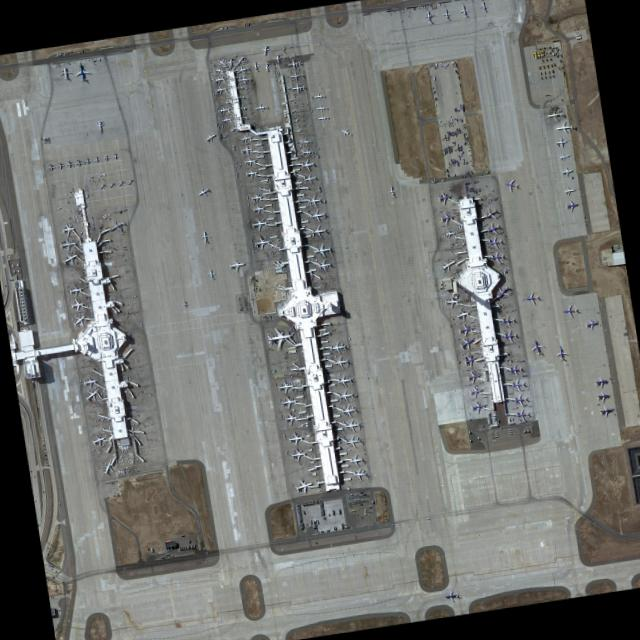large-vehicle: (103, 212, 107, 216), (48, 563, 53, 566), (430, 179, 435, 182), (433, 177, 436, 181), (56, 52, 61, 54), (102, 214, 105, 217), (99, 218, 102, 221), (63, 51, 67, 53), (107, 212, 110, 214), (433, 75, 435, 78), (86, 192, 87, 196), (325, 220, 328, 221), (247, 219, 248, 222), (236, 173, 237, 176), (247, 202, 248, 204), (249, 193, 250, 195), (266, 176, 268, 177)
plane: (265, 323, 295, 350), (491, 279, 516, 303), (57, 247, 81, 268), (436, 253, 460, 274), (68, 309, 90, 331), (478, 203, 501, 224), (291, 475, 315, 495), (104, 215, 128, 235), (527, 336, 548, 358), (71, 61, 92, 82), (456, 332, 478, 352), (81, 384, 102, 404), (87, 429, 107, 449), (483, 218, 503, 237), (226, 256, 248, 273), (311, 241, 333, 258), (98, 456, 116, 475), (306, 206, 327, 222), (328, 338, 349, 354), (275, 377, 295, 393), (288, 446, 308, 462), (249, 215, 269, 231), (333, 371, 353, 387), (57, 236, 78, 251), (501, 175, 519, 192), (252, 234, 271, 250), (460, 351, 479, 367), (309, 222, 328, 238), (452, 305, 471, 321), (335, 387, 354, 403), (331, 353, 350, 369), (488, 248, 505, 265), (194, 183, 212, 199), (315, 256, 333, 272), (437, 209, 455, 225), (339, 402, 357, 418), (286, 430, 305, 445), (544, 106, 563, 121), (343, 433, 362, 448), (554, 119, 574, 133), (283, 410, 300, 426), (66, 281, 84, 296), (468, 398, 486, 413), (304, 192, 322, 207), (343, 417, 361, 432), (57, 64, 73, 80), (443, 587, 459, 603), (509, 376, 525, 392), (81, 373, 98, 388), (514, 406, 531, 421), (486, 234, 503, 249), (456, 322, 474, 336), (443, 293, 461, 307), (435, 189, 453, 203), (69, 296, 85, 311), (512, 391, 528, 406), (523, 290, 539, 305), (299, 156, 315, 171), (280, 394, 297, 408), (233, 62, 250, 76), (561, 303, 578, 317), (198, 228, 213, 243), (421, 8, 436, 23), (348, 452, 363, 467), (202, 129, 218, 143), (501, 328, 517, 342), (500, 312, 516, 326), (583, 316, 599, 330), (289, 79, 305, 93), (563, 198, 580, 211), (285, 56, 302, 69), (60, 221, 75, 235), (554, 344, 568, 359), (351, 466, 366, 480), (592, 373, 608, 386), (464, 369, 480, 382), (287, 68, 303, 81), (597, 403, 613, 416), (508, 362, 522, 376), (214, 55, 229, 68), (457, 2, 470, 17), (553, 135, 568, 148), (467, 384, 483, 396), (301, 171, 317, 183), (233, 53, 247, 66), (338, 124, 352, 137), (93, 118, 106, 132), (239, 143, 254, 155), (236, 72, 251, 84), (595, 388, 610, 400), (441, 227, 457, 238), (386, 183, 398, 197), (253, 101, 267, 113), (249, 191, 264, 202), (242, 155, 257, 166), (244, 167, 259, 178), (559, 165, 574, 176), (205, 266, 217, 279), (259, 42, 271, 55), (251, 203, 265, 214), (213, 84, 228, 94), (211, 73, 226, 83), (238, 132, 253, 142), (561, 184, 576, 194), (441, 7, 452, 20), (216, 104, 230, 114), (556, 151, 570, 161), (315, 112, 329, 122), (272, 51, 283, 63), (115, 177, 126, 188), (250, 59, 261, 70), (478, 0, 489, 11), (261, 61, 272, 72), (212, 64, 224, 74), (301, 146, 313, 156), (315, 102, 327, 112), (220, 114, 233, 123), (85, 172, 96, 182), (125, 175, 135, 186), (299, 136, 311, 145), (95, 171, 105, 181), (106, 179, 116, 189), (226, 56, 235, 67), (313, 91, 324, 100), (97, 181, 106, 190), (55, 160, 64, 169), (46, 162, 55, 170), (111, 151, 119, 160), (65, 159, 74, 167), (74, 158, 83, 166), (93, 154, 101, 163), (181, 299, 189, 307), (102, 153, 110, 161), (84, 156, 91, 164)
small-vehicle: (450, 316, 453, 319), (467, 411, 470, 414), (433, 88, 435, 92), (57, 206, 61, 208), (371, 498, 373, 502), (203, 546, 205, 549), (58, 501, 60, 504), (477, 226, 480, 228), (506, 267, 508, 270), (314, 258, 317, 260), (431, 85, 433, 88), (87, 226, 90, 228), (215, 110, 217, 113), (167, 546, 169, 549), (129, 410, 132, 412), (106, 417, 109, 419), (95, 366, 98, 368), (274, 375, 277, 377), (169, 546, 171, 549), (308, 524, 310, 527), (498, 426, 501, 428), (266, 314, 268, 317), (250, 296, 252, 299), (271, 313, 273, 316), (278, 302, 280, 305), (277, 256, 280, 258), (39, 423, 42, 425), (84, 295, 86, 298), (43, 449, 46, 451), (50, 567, 52, 569), (48, 571, 50, 573), (319, 284, 321, 286), (460, 242, 464, 243), (505, 267, 507, 269), (328, 289, 330, 291), (339, 294, 340, 298), (466, 294, 468, 296), (466, 296, 468, 298), (457, 274, 459, 276), (459, 269, 461, 271), (460, 269, 462, 271), (461, 268, 463, 270), (503, 270, 505, 272), (434, 96, 436, 98), (116, 61, 118, 63), (85, 213, 87, 215), (81, 262, 83, 264), (88, 230, 90, 232), (278, 248, 280, 250), (277, 241, 279, 243), (269, 344, 271, 346), (269, 353, 271, 355), (365, 465, 367, 467), (427, 516, 429, 518), (262, 315, 264, 317), (282, 298, 284, 300), (43, 447, 45, 449), (15, 335, 16, 339), (34, 498, 35, 501), (504, 267, 505, 270), (552, 51, 553, 54), (401, 18, 402, 21), (295, 54, 298, 55), (85, 217, 88, 218), (254, 122, 255, 125), (216, 121, 217, 124), (257, 127, 260, 128), (129, 413, 132, 414), (106, 419, 109, 420), (99, 376, 102, 377), (348, 336, 349, 339), (252, 296, 253, 299), (280, 302, 281, 305), (90, 314, 93, 315), (38, 419, 41, 420), (391, 523, 393, 524), (171, 554, 173, 555), (164, 548, 165, 550), (43, 490, 44, 492), (38, 523, 39, 525), (33, 474, 34, 476), (30, 469, 31, 471), (508, 267, 509, 269), (436, 178, 437, 180), (464, 297, 466, 298), (505, 270, 506, 272), (452, 276, 453, 278), (500, 276, 502, 277), (84, 209, 86, 210), (549, 99, 550, 101), (245, 87, 247, 88), (289, 56, 291, 57), (282, 45, 284, 46), (272, 61, 273, 63), (212, 77, 214, 78), (239, 82, 240, 84), (249, 92, 251, 93), (88, 235, 90, 236), (77, 211, 79, 212), (81, 264, 83, 265), (40, 136, 41, 138), (235, 164, 236, 166), (331, 289, 333, 290), (272, 347, 274, 348), (129, 412, 131, 413), (104, 394, 105, 396), (100, 377, 102, 378), (33, 386, 35, 387), (35, 397, 37, 398), (36, 402, 38, 403), (299, 408, 301, 409), (171, 546, 172, 548), (350, 493, 352, 494), (348, 448, 350, 449), (311, 412, 313, 413), (296, 358, 298, 359), (301, 391, 303, 392), (36, 403, 38, 404), (36, 404, 38, 405), (37, 407, 39, 408), (253, 309, 254, 311), (251, 299, 252, 301), (250, 293, 251, 295), (105, 274, 107, 275), (261, 315, 262, 317), (281, 302, 282, 304), (90, 359, 92, 360), (37, 410, 39, 411), (42, 441, 44, 442), (39, 422, 41, 423), (39, 423, 41, 424), (41, 435, 43, 436), (41, 438, 43, 439), (42, 442, 44, 443), (43, 444, 45, 445), (44, 453, 46, 454), (45, 457, 47, 458), (333, 285, 334, 286), (213, 94, 214, 95), (34, 388, 35, 389)
